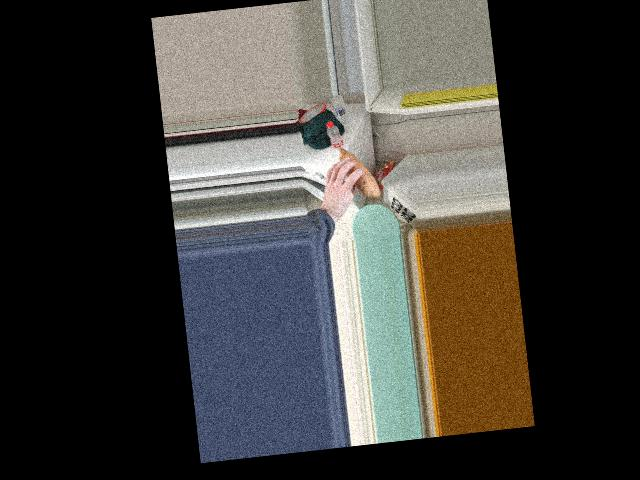sweet_potato: (331, 145, 379, 194)
